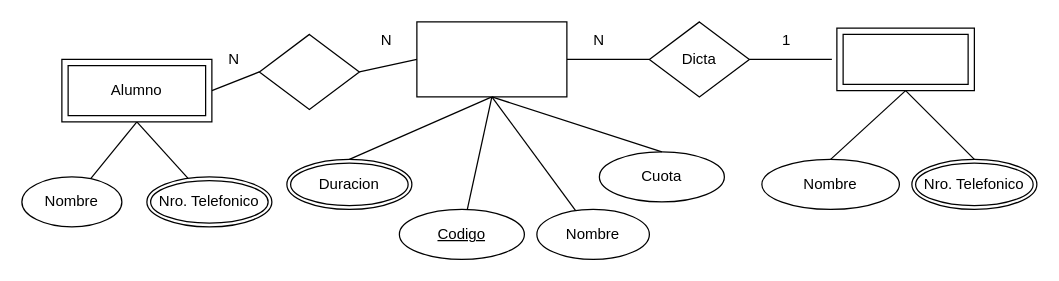
This 1059x281 diagram has some shape labels left out. The centre of each missing label's shape, as x and y in pixels:
"Curso" belongs at point (491, 59).
"Instructor" belongs at point (905, 59).
"Se inscribe" belongs at point (308, 71).
